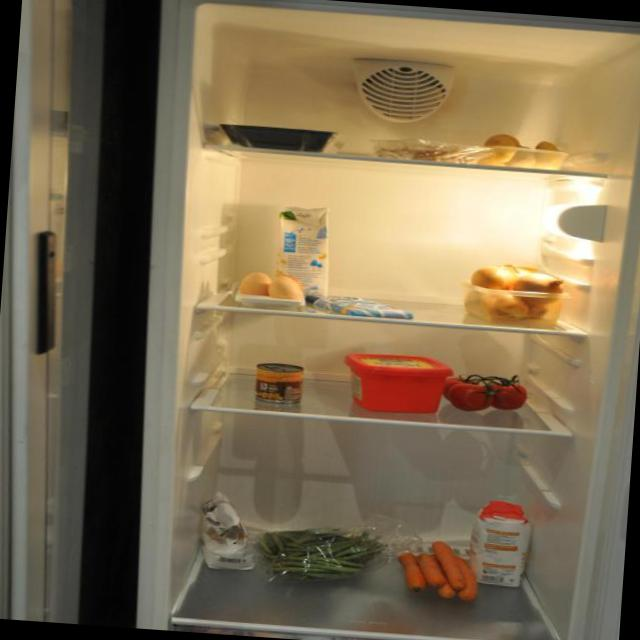Cebolla: (466, 261, 561, 326)
Gambas/Langostinos: (369, 136, 474, 168)
Huevos: (238, 268, 304, 304)
Leche: (271, 201, 333, 306)
Mantequilla: (336, 349, 452, 418)
Patata: (478, 130, 572, 172)
Tomate: (446, 370, 526, 414)
Zanahoria: (395, 538, 482, 603)
